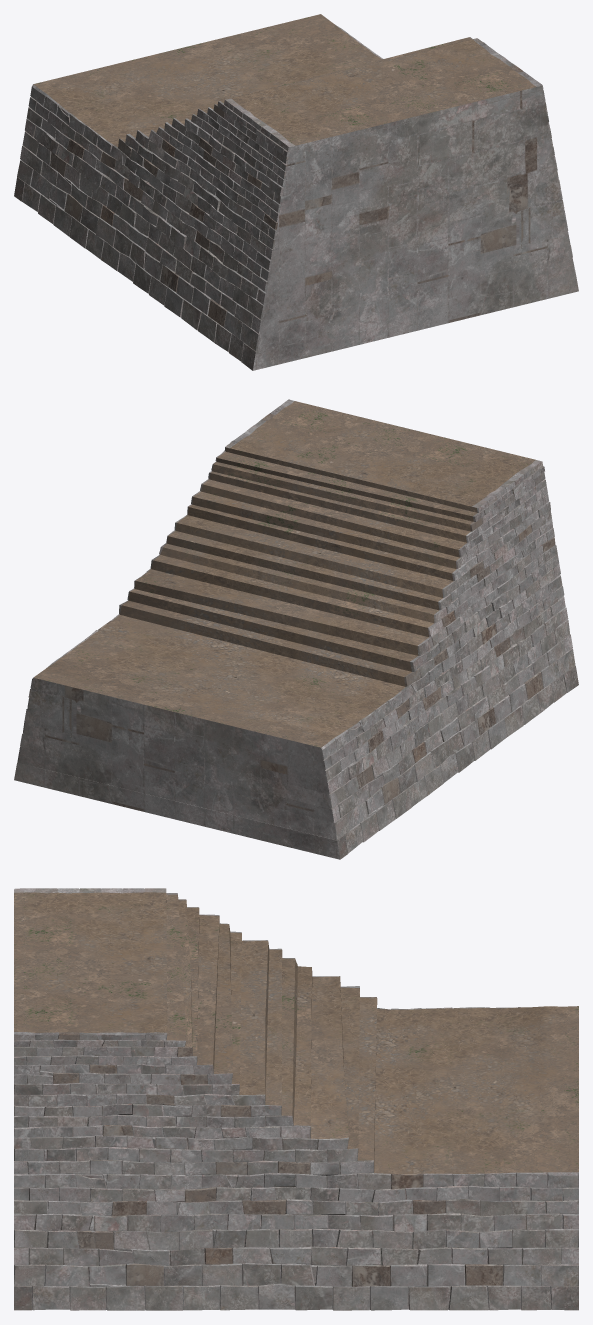
Rendered from SM_Stone_Barrier03a.fbx.
The picture shows the model from 3 angles, top to bottom: view 1: azimuth 30°, elevation 25°; view 2: azimuth 150°, elevation 25°; view 3: azimuth 270°, elevation 25°; orthographic projection. The views are drawn at different scales.
Visible parts, largest first — view 1: SM_Stone_Barrier03a; view 2: SM_Stone_Barrier03a; view 3: SM_Stone_Barrier03a.
Part boxes in pixels (x1=…): SM_Stone_Barrier03a: x1=14, y1=14, x2=578, y2=370; SM_Stone_Barrier03a: x1=14, y1=399, x2=578, y2=859; SM_Stone_Barrier03a: x1=14, y1=888, x2=578, y2=1310.
Size of the model in its own units: 633 by 800 by 398.
2 materials, 2 textured.
